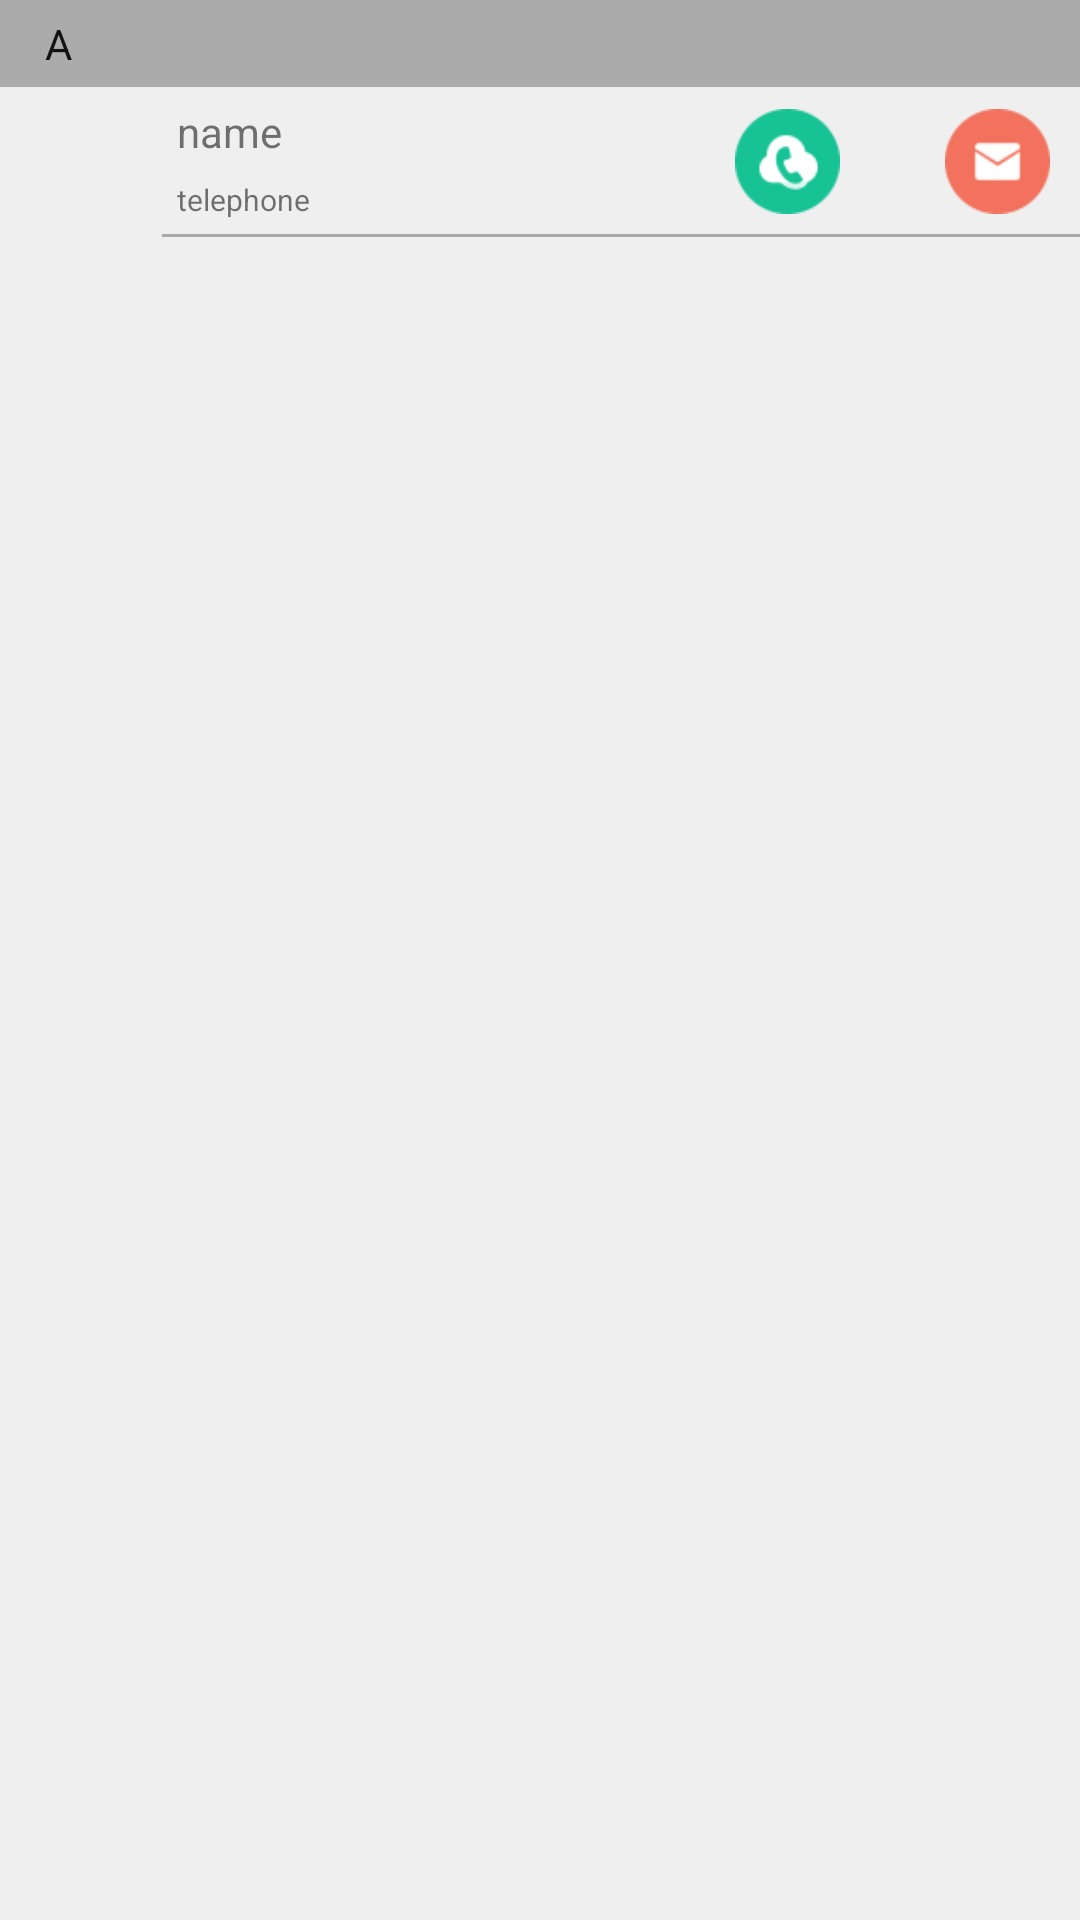

Where icons sit on this 1080w x 1920h app screen, as Rect(x1, y1, x2, y2):
function call: Rect(735, 109, 840, 214)
function cmail: Rect(945, 109, 1050, 214)
